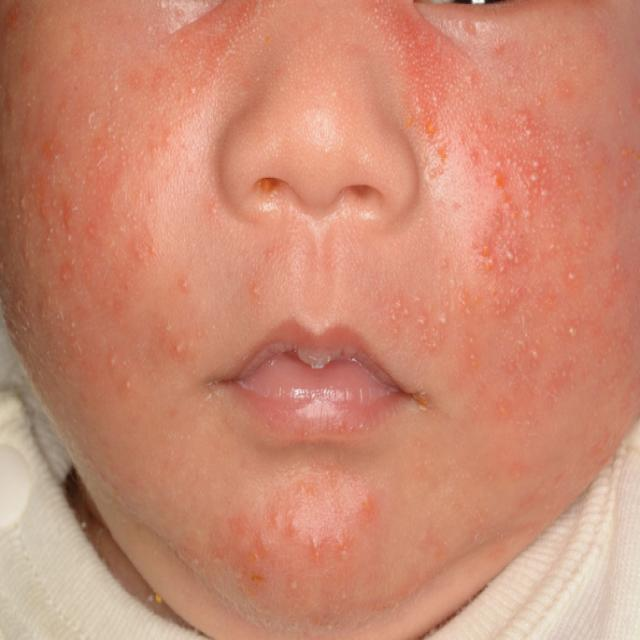acne: (369, 0, 640, 435), (0, 47, 281, 450), (193, 462, 455, 640)
